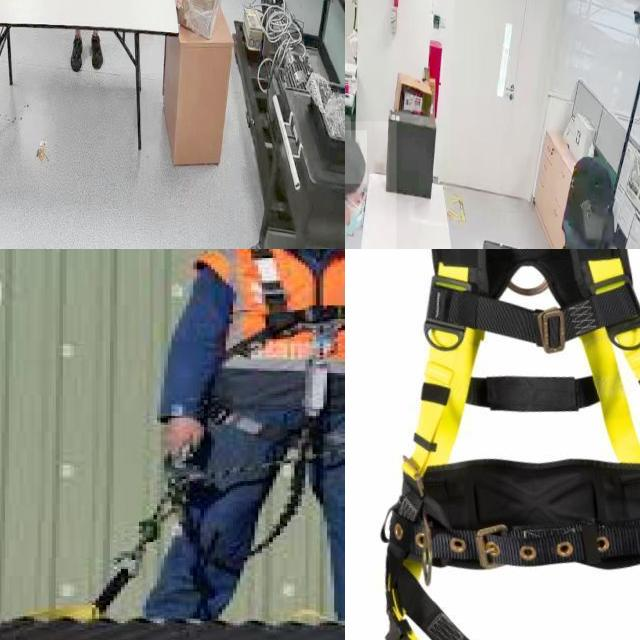Harness: (387, 249, 640, 640), (192, 249, 345, 535)
face_mask: (345, 185, 369, 237)
head_nohelmet: (345, 130, 367, 184)
shoes: (87, 30, 105, 72), (69, 34, 85, 76)
